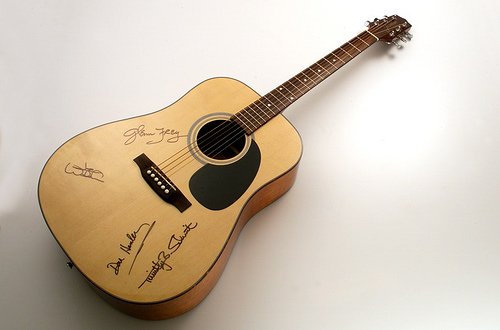guitar: (35, 11, 414, 321)
